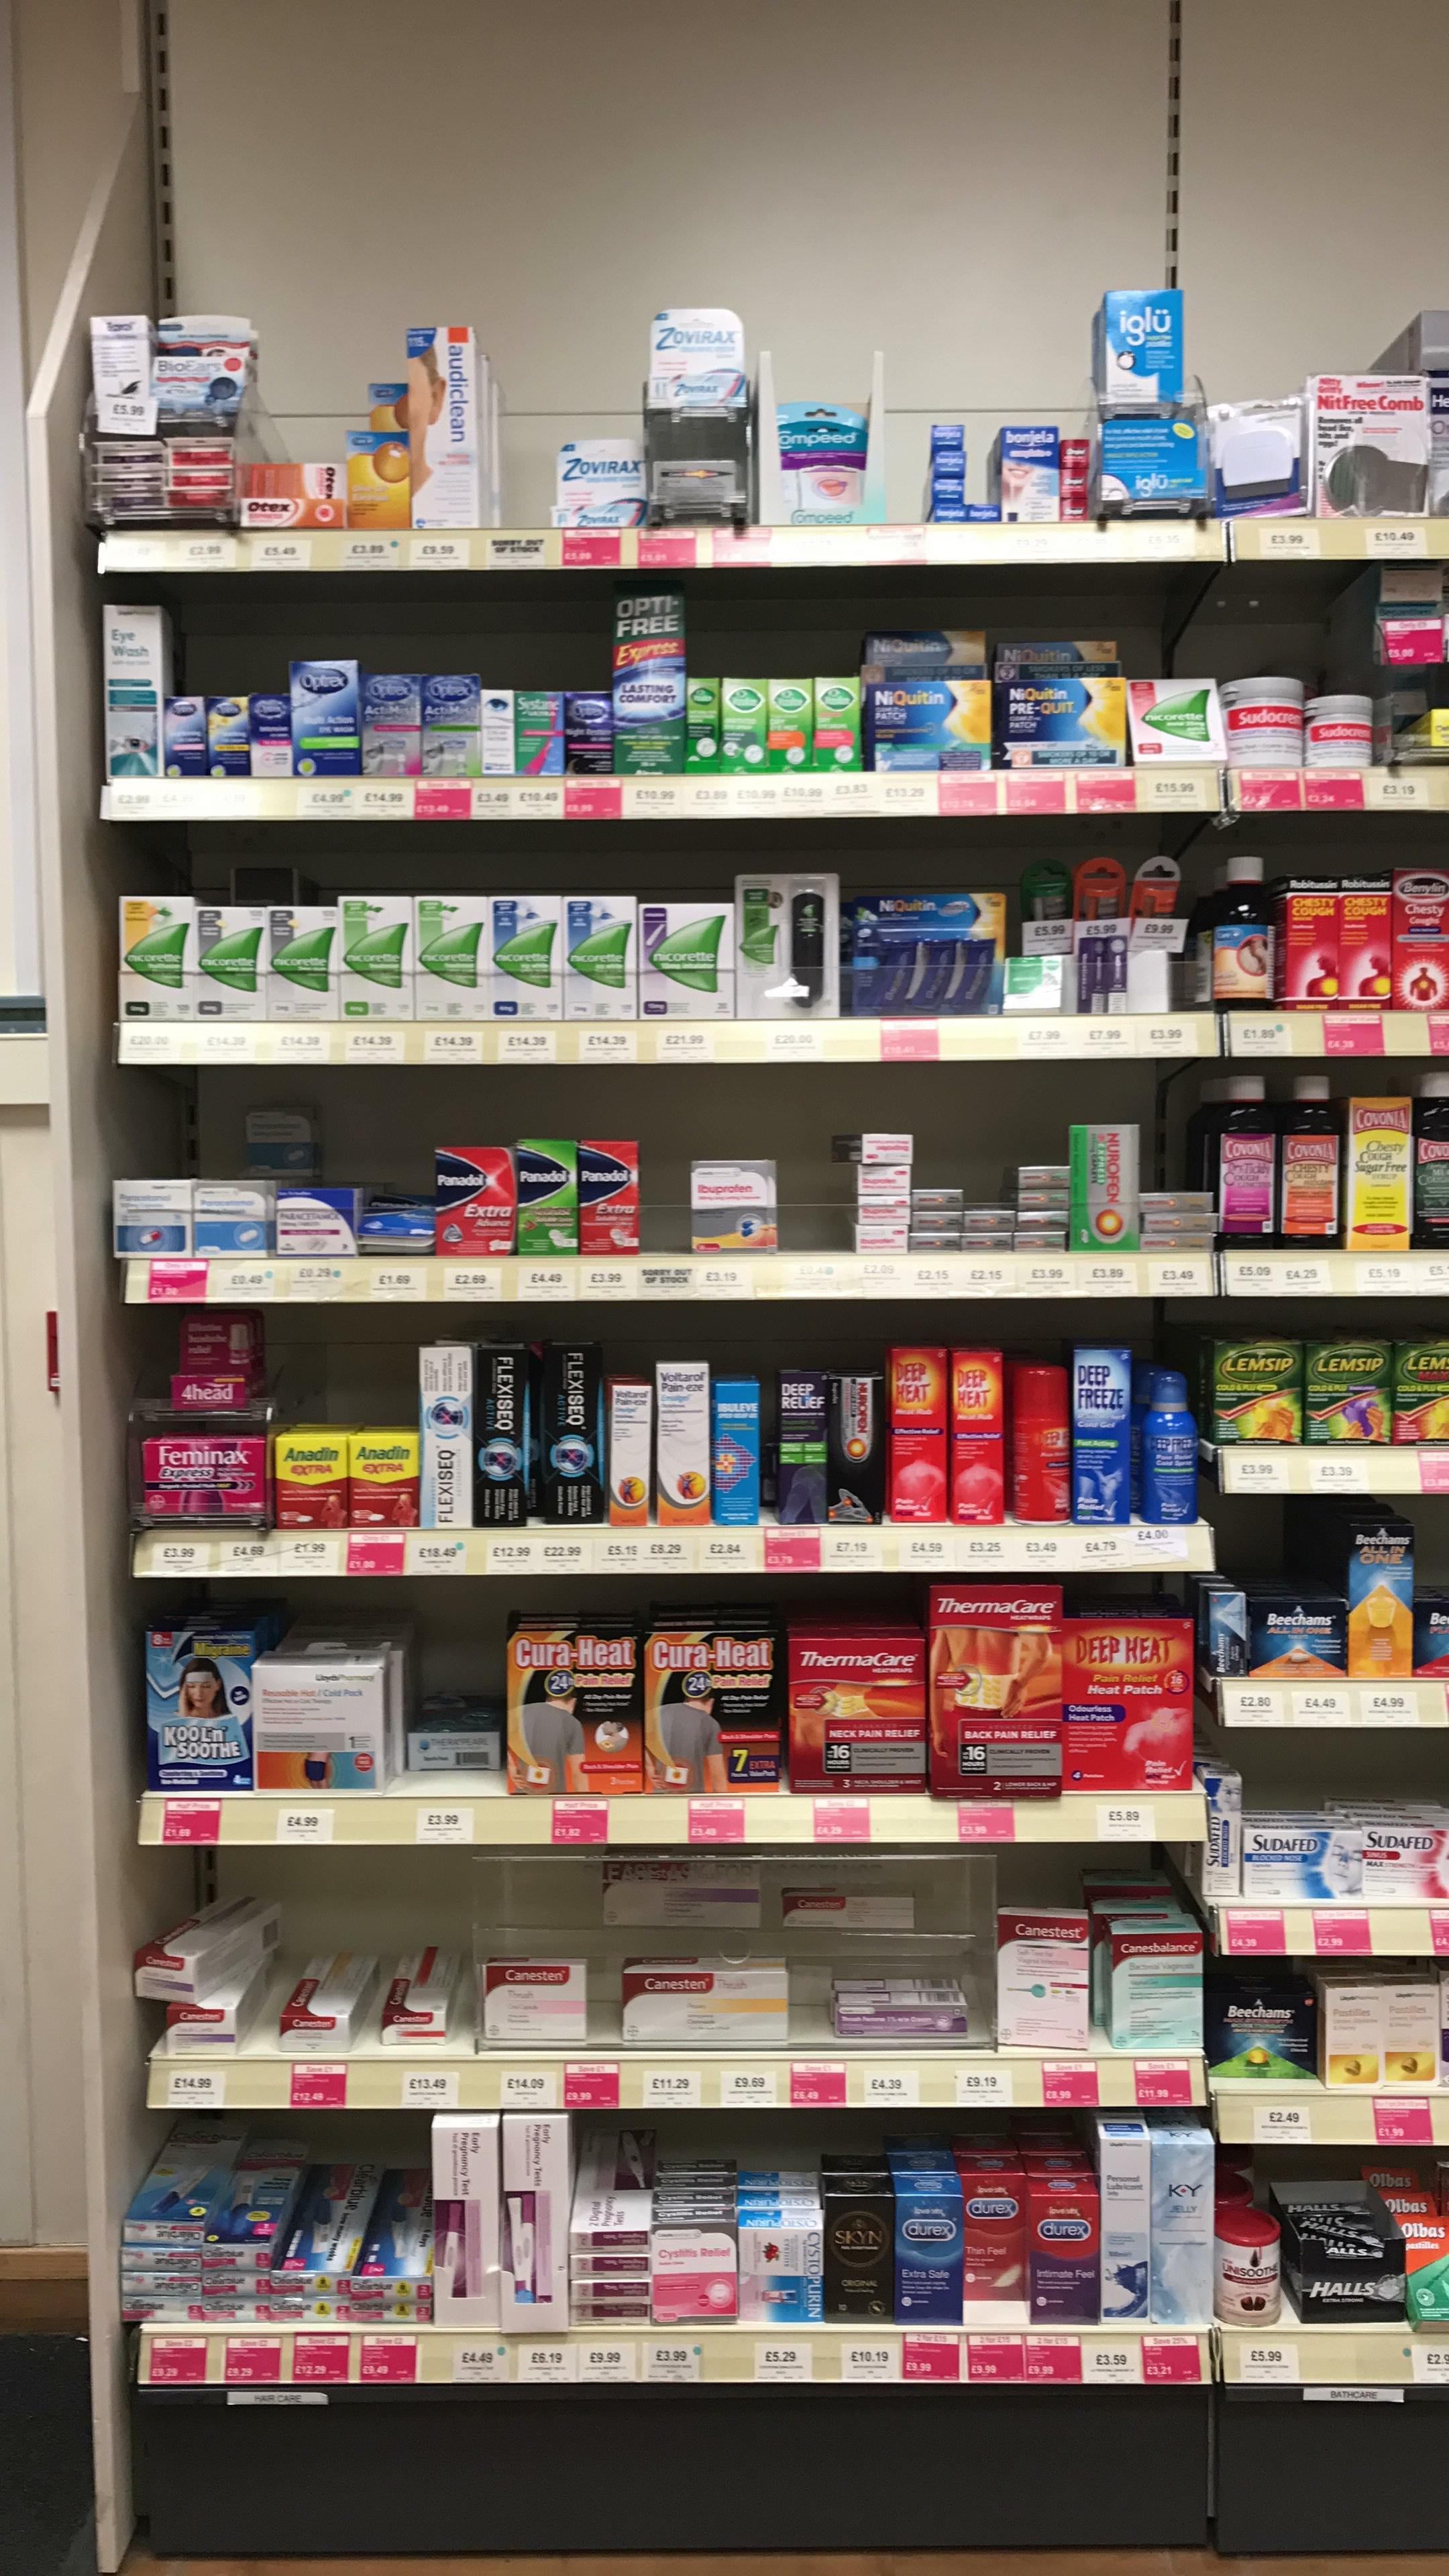empty: (499, 377, 550, 527), (782, 1113, 832, 1246), (885, 380, 922, 525), (646, 1118, 686, 1247)
misalignment: (129, 1891, 288, 1987)
